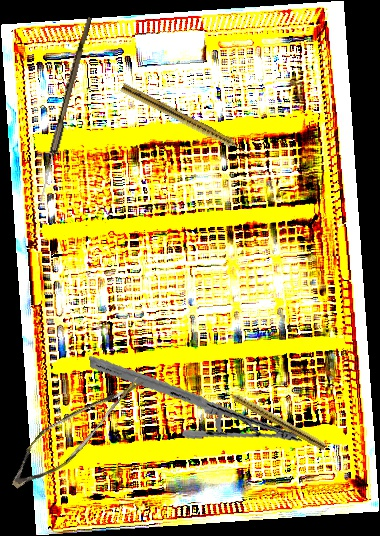Handpiece: (118, 82, 250, 158), (220, 385, 329, 451)
Micro Scissor: (3, 348, 147, 509)
Needle Holder: (88, 325, 303, 475)
Surgical Spoon: (37, 15, 92, 204)
